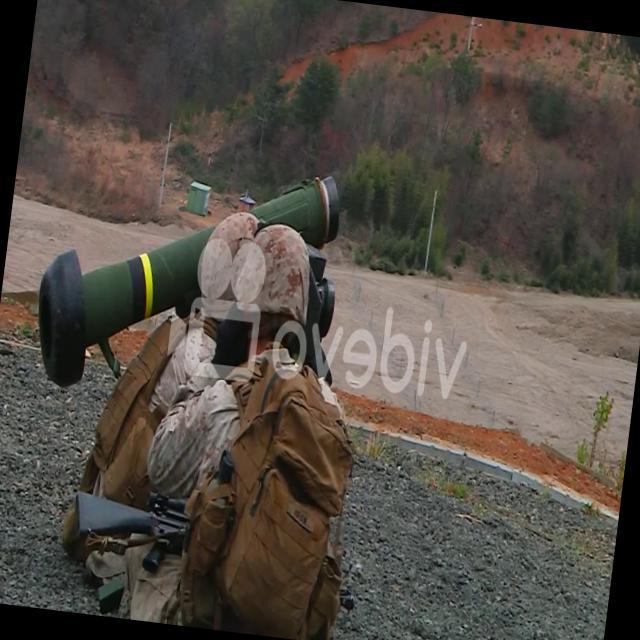rocket: (35, 144, 343, 414)
